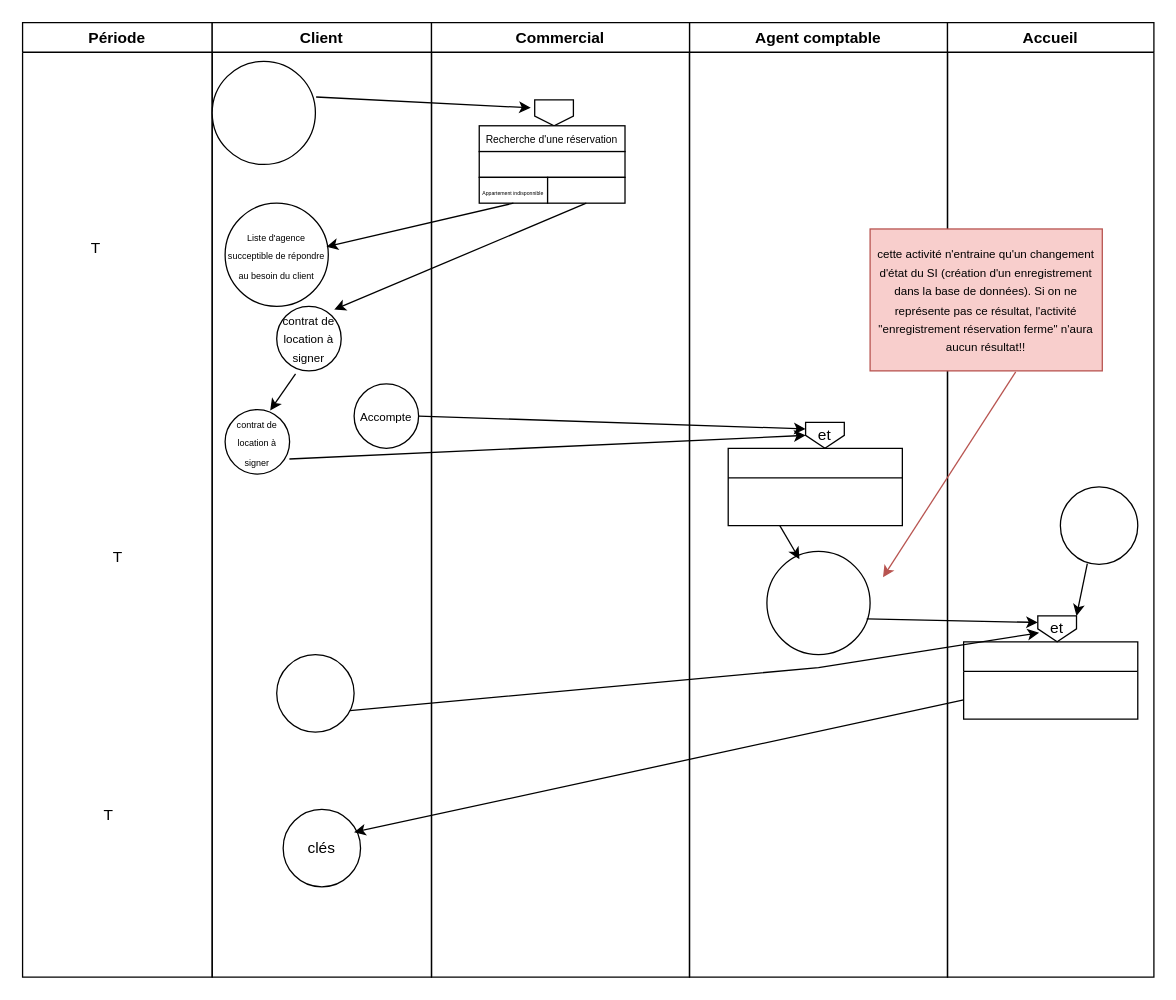
Some shapes in this 1176 by 1000 pixel diagram are drawn without their labels. Here are the shapes that lost their labels. From the top down, the centre of each, then its label:
(x=263, y=112): Demande de réservation
(x=585, y=189): Appartement disponnible
(x=814, y=486): Enregistrement réservation ferme
(x=1098, y=525): début de location
(x=818, y=602): Réservation ferme enregistré
(x=314, y=692): solde
(x=1050, y=679): remise des clés
